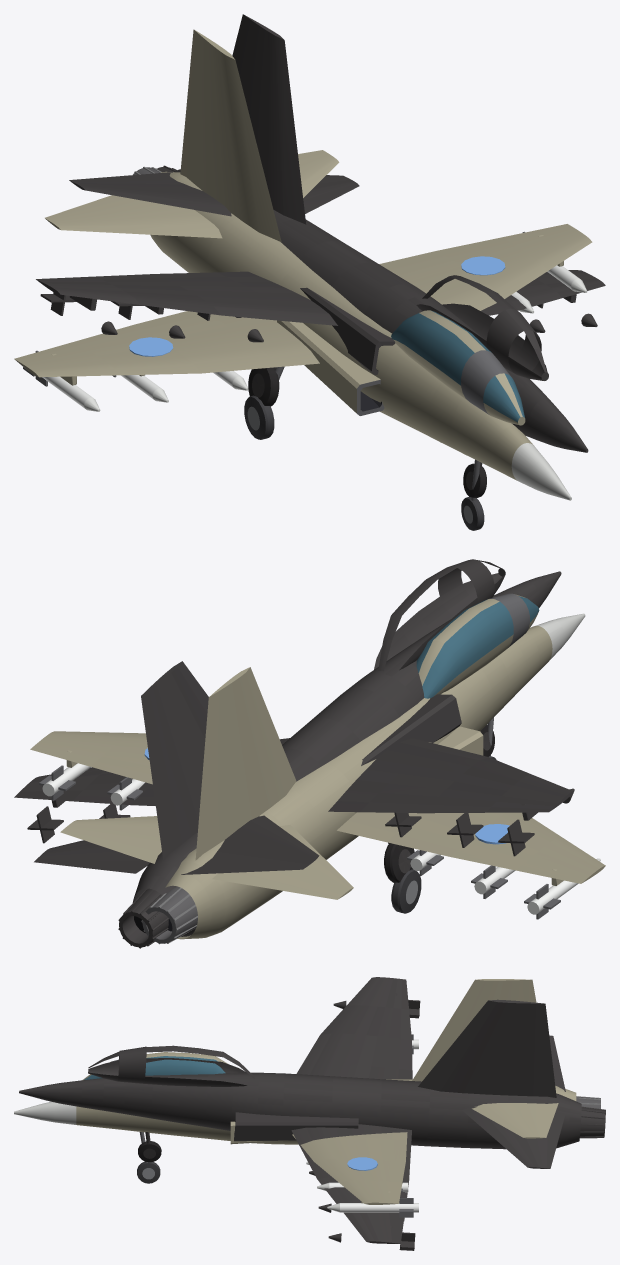
Rendered from attackJet__l_159_alca.glb.
3 renders of one model, top to bottom at view 1: azimuth 30°, elevation 25°; view 2: azimuth 150°, elevation 25°; view 3: azimuth 270°, elevation 25°, orthographic. The views are drawn at different scales.
Parts seen in each view (by area): view 1: Fuselage_Mesh, Wreck; view 2: Fuselage_Mesh, Wreck; view 3: Wreck, Fuselage_Mesh.
Boxes of the visible parts, x1,y1,x2,y2 form: Fuselage_Mesh: [14, 29, 592, 530]; Wreck: [36, 14, 605, 497]; Fuselage_Mesh: [30, 593, 605, 944]; Wreck: [14, 559, 574, 948]; Wreck: [19, 977, 605, 1250]; Fuselage_Mesh: [14, 979, 600, 1217].
Size of what is drawn, in the model's own units: 9.8 by 4.87 by 12.85.
